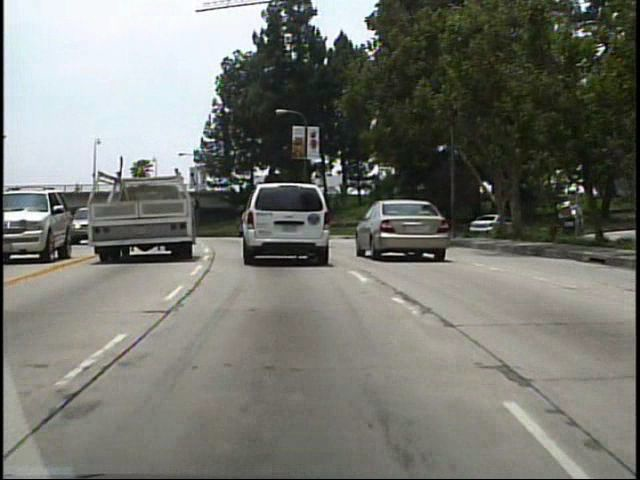person: (73, 179, 84, 199)
